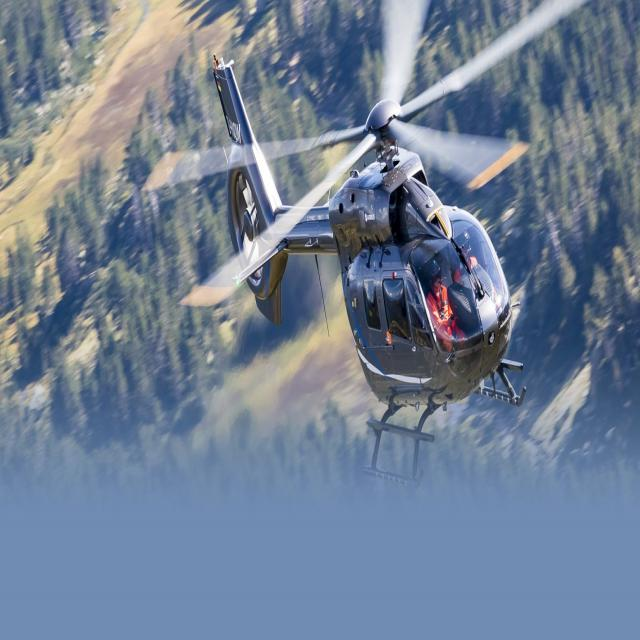helicopter: (161, 1, 604, 493)
